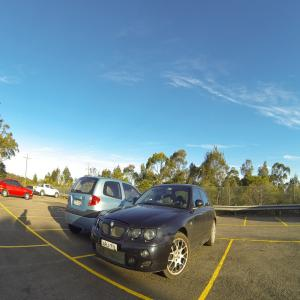Vehicle-registration-plate: (102, 240, 118, 253)
